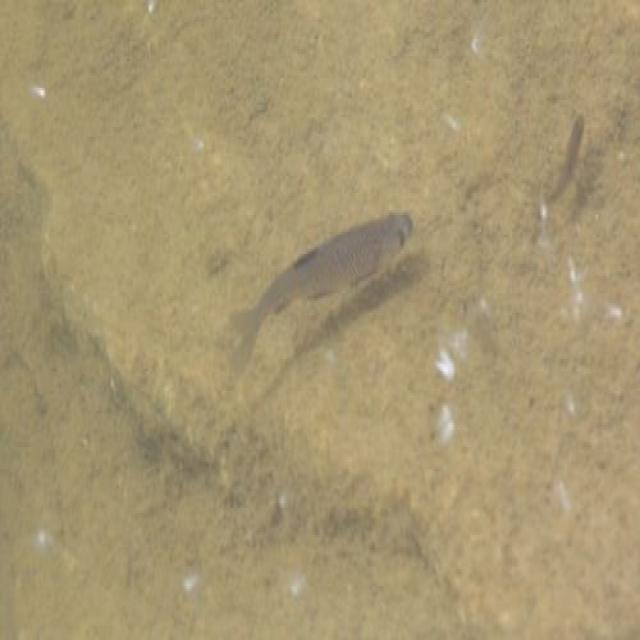Cakil Baligi: (227, 205, 415, 372)
